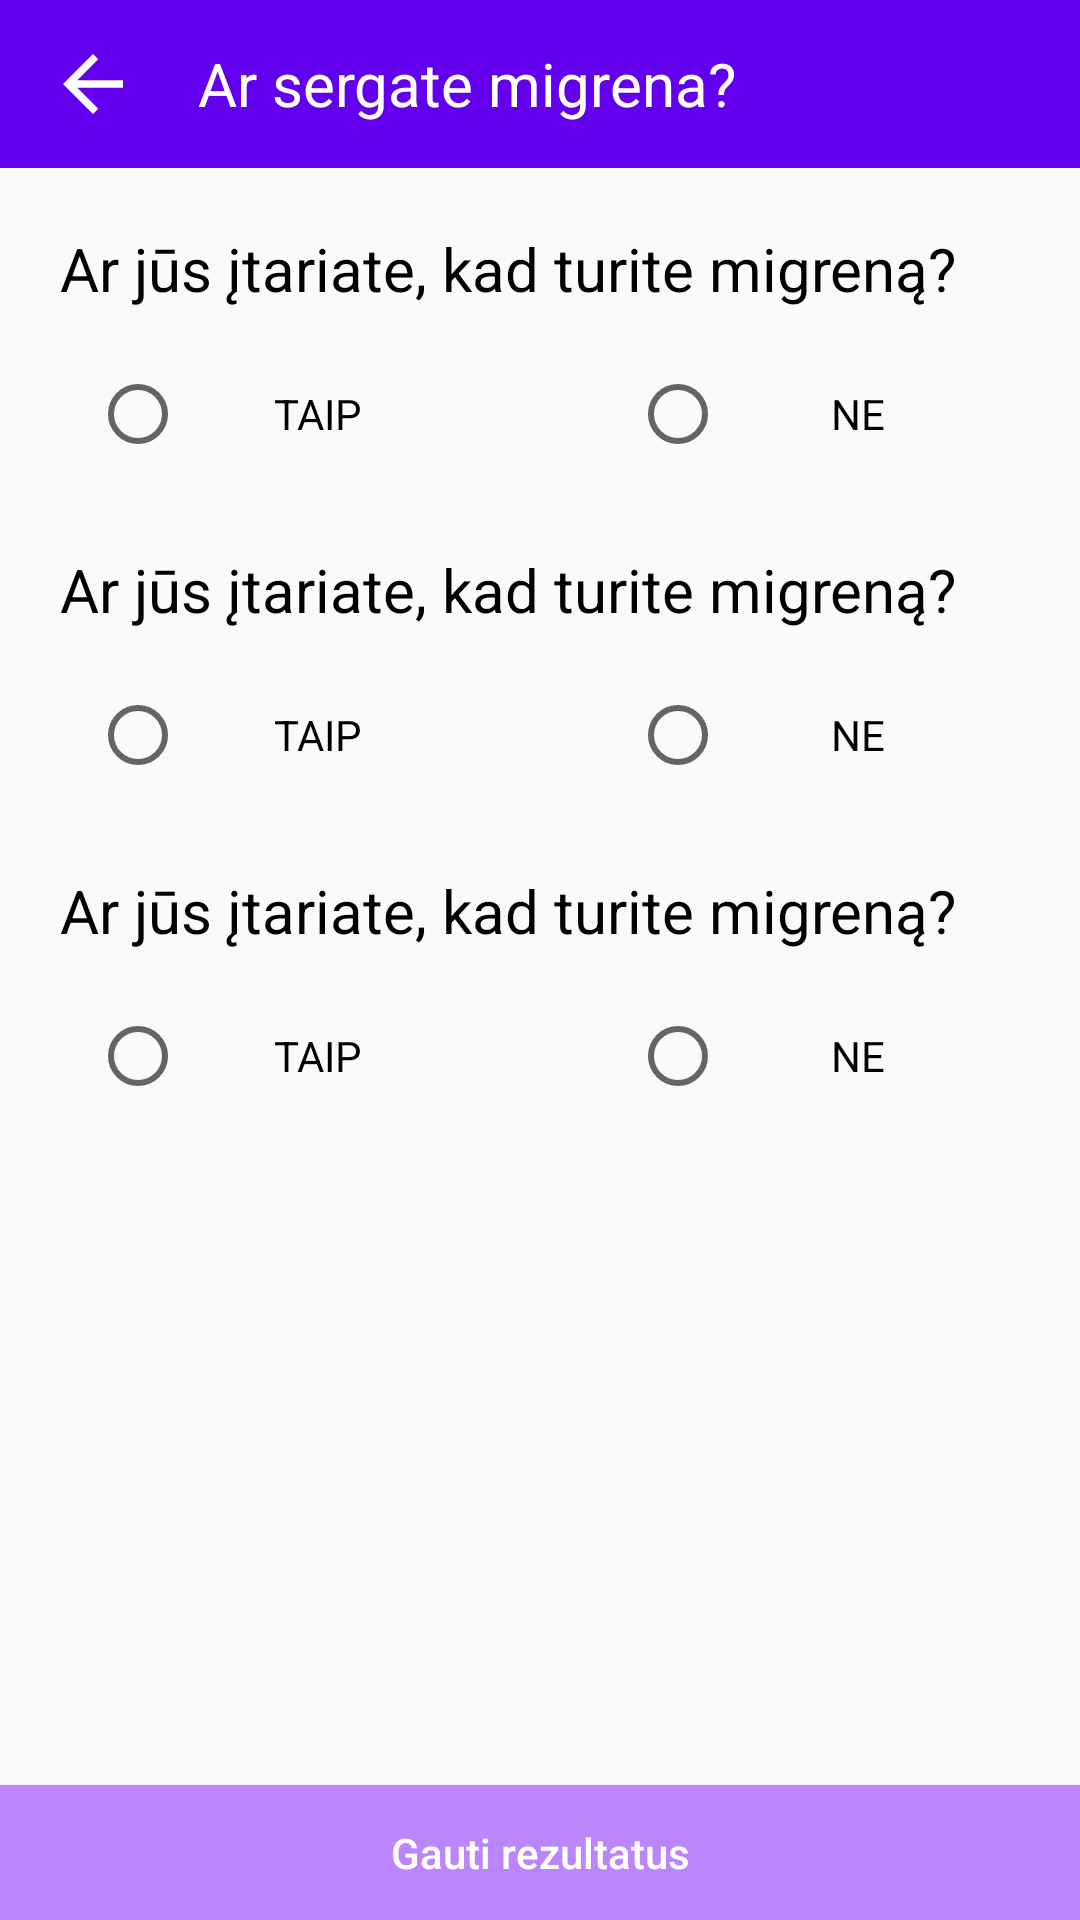

Screen size 1080px x 1920px. Icon name, then its center in pixels as [x,y]:
arrow: [93,84]
